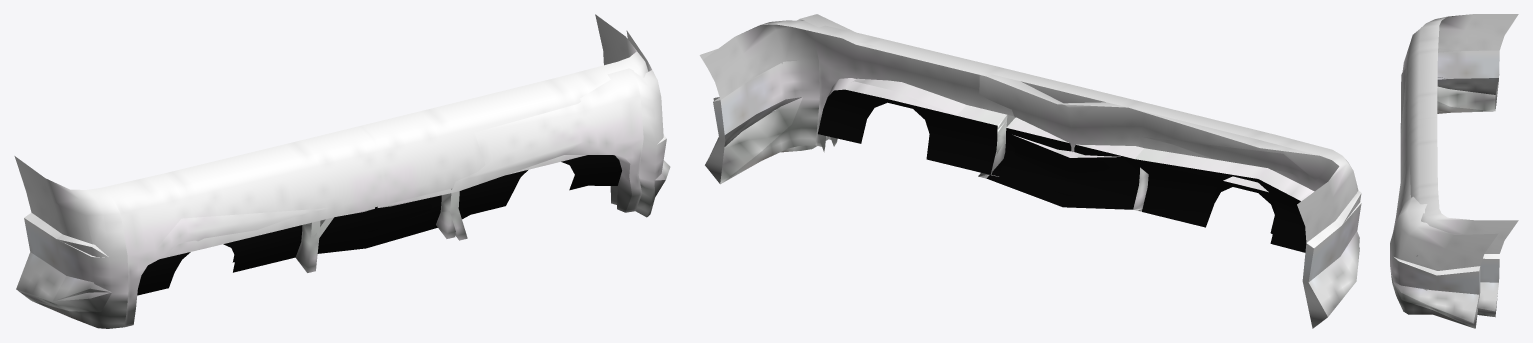
Rendered from rbmp_c_f.glb.
3 renders of one model, left to right at view 1: azimuth 30°, elevation 25°; view 2: azimuth 150°, elevation 25°; view 3: azimuth 270°, elevation 25°, orthographic. The views are drawn at different scales.
Parts seen in each view (by area): view 1: rbmp_c_f, rbmp_c_f_dam; view 2: rbmp_c_f, rbmp_c_f_dam; view 3: rbmp_c_f, rbmp_c_f_dam.
Part boxes in pixels (left/top/right/bottom): rbmp_c_f: left=14, top=14, right=648, bottom=328; rbmp_c_f_dam: left=53, top=30, right=670, bottom=301; rbmp_c_f: left=703, top=20, right=1361, bottom=328; rbmp_c_f_dam: left=699, top=14, right=1361, bottom=280; rbmp_c_f: left=1400, top=14, right=1518, bottom=317; rbmp_c_f_dam: left=1390, top=30, right=1498, bottom=328.
Size of the model in its own units: 2.01 by 0.445 by 0.4964.
Materials: 2 (1 with a texture image).
